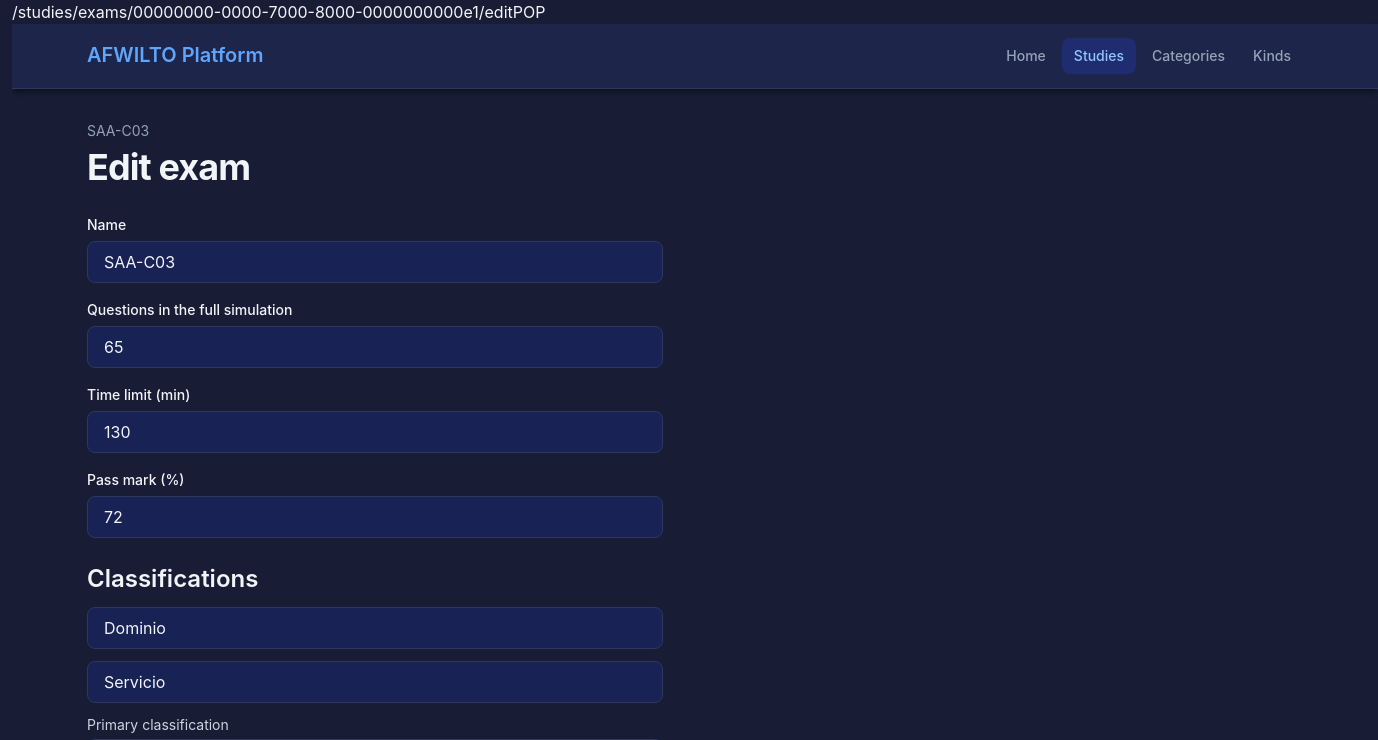
it: ExamEditPage: server failures › a 422 invalid_text on the exam name lands on the name field
The width and height of the screenshot is (1378, 740).
Replace the text in the field labelled "Name" with "SAA-C04": (375,262) [87,241,663,283]
(page scrolled)
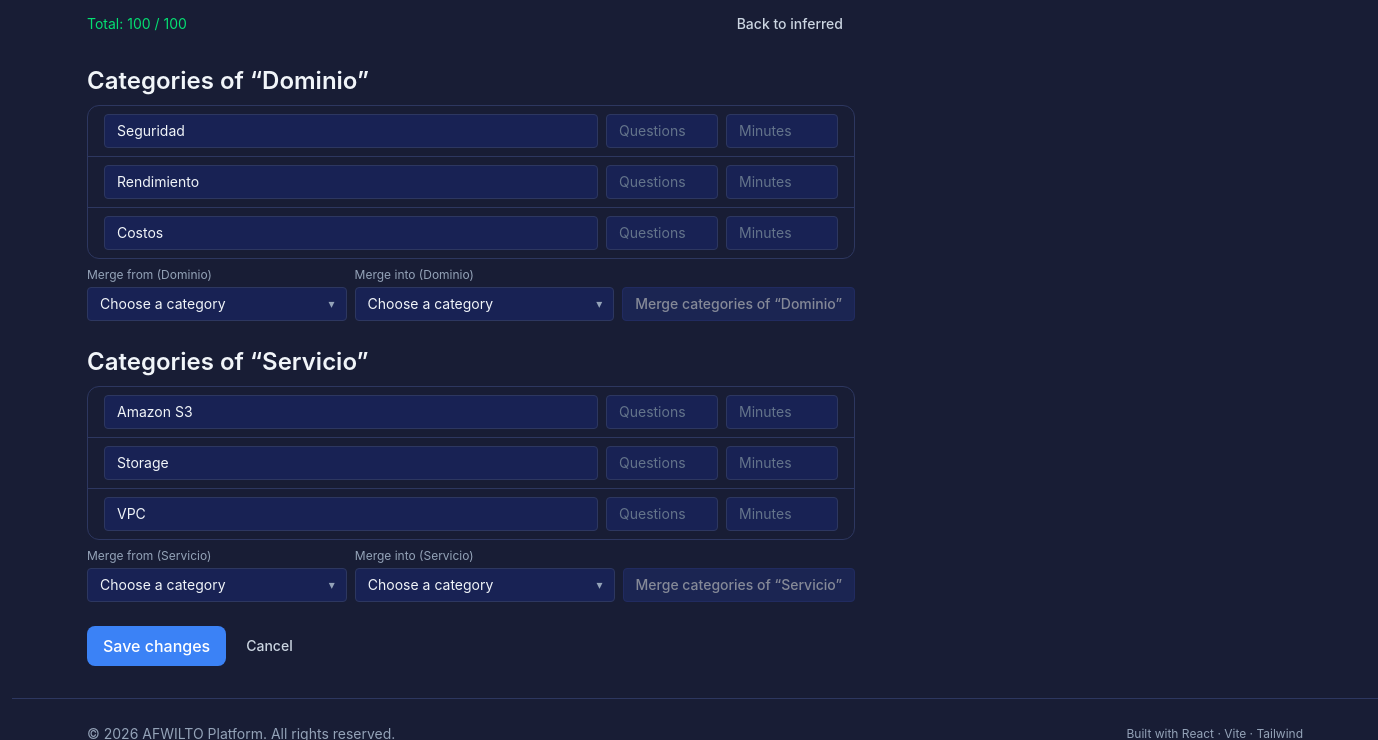
Click the button "Save changes": (157,646) [87,626,226,666]
(page scrolled)
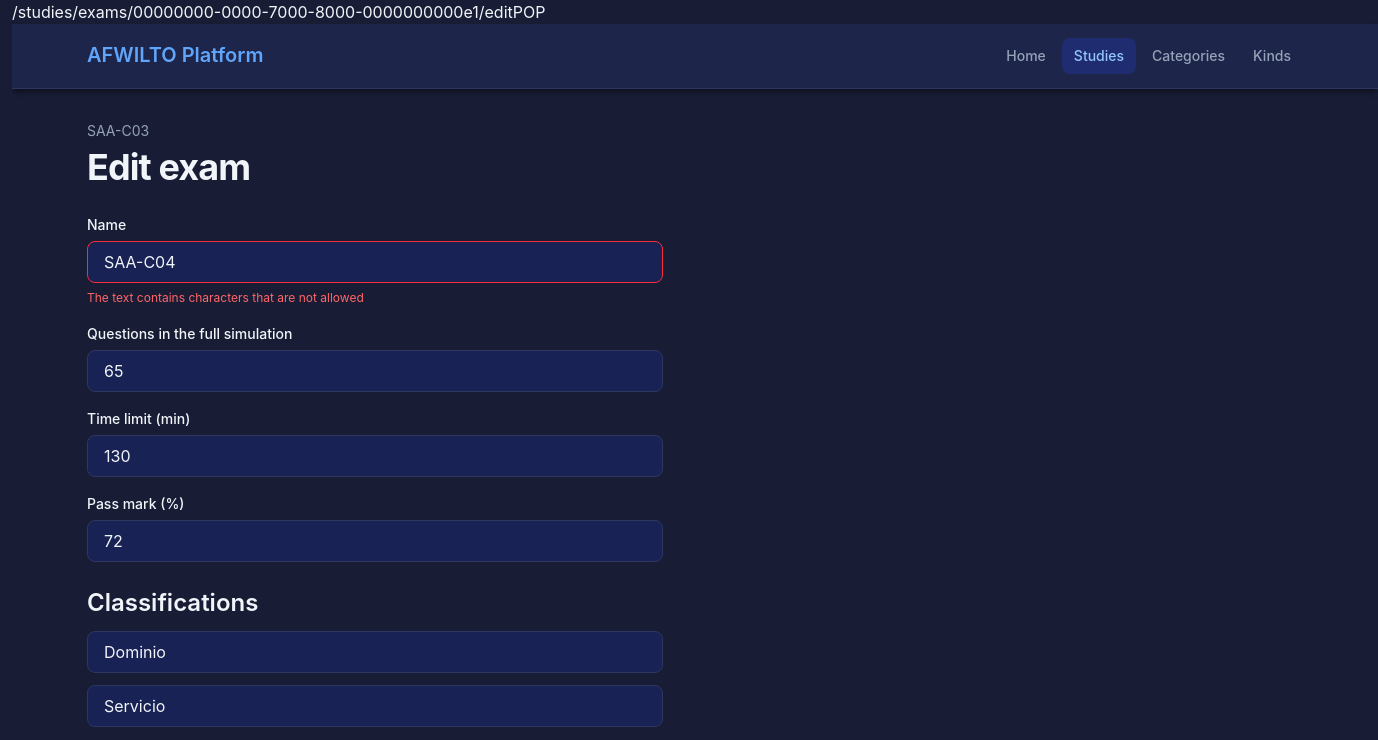
Result: the text "The text contains characters that are not allowed" is shown at [87,290,364,305]
